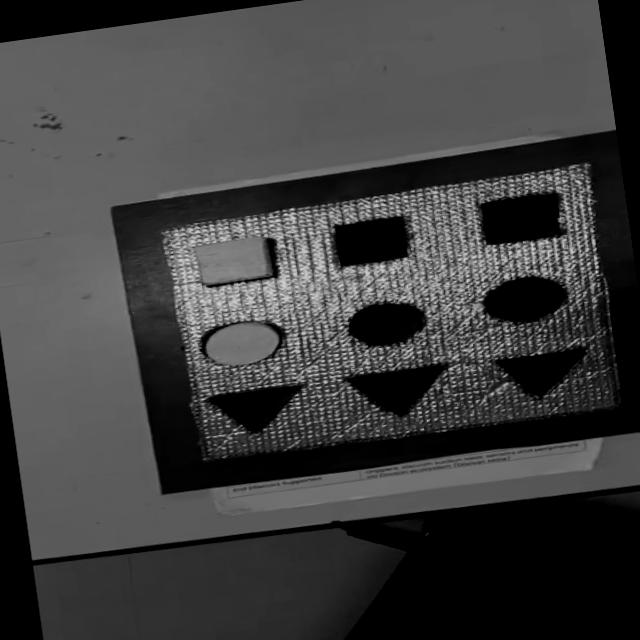mtcircle: (477, 270, 573, 329), (344, 296, 431, 350)
mtcube: (476, 190, 568, 250), (330, 214, 414, 270)
mttriangle: (344, 361, 458, 424), (205, 381, 309, 440), (493, 346, 595, 404)
wb: (152, 162, 624, 470)
ycircle: (198, 315, 287, 372)
ycube: (191, 232, 279, 290)
